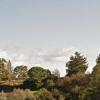Tree: (63, 46, 97, 86)
